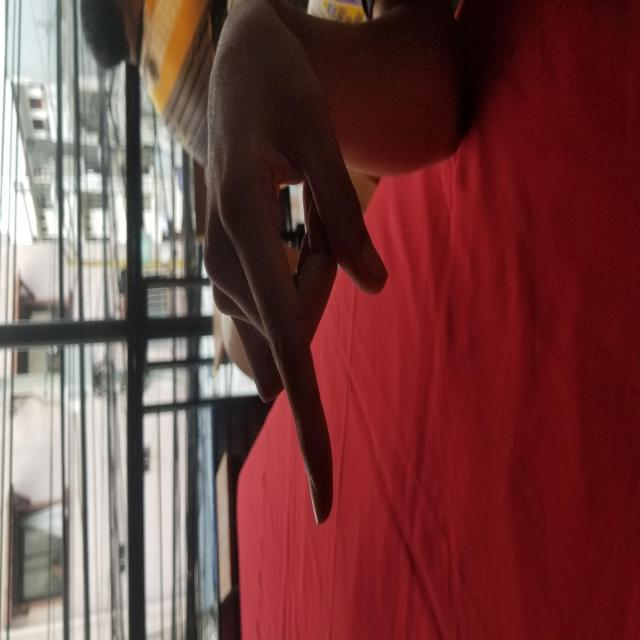Z: (188, 3, 392, 527)
